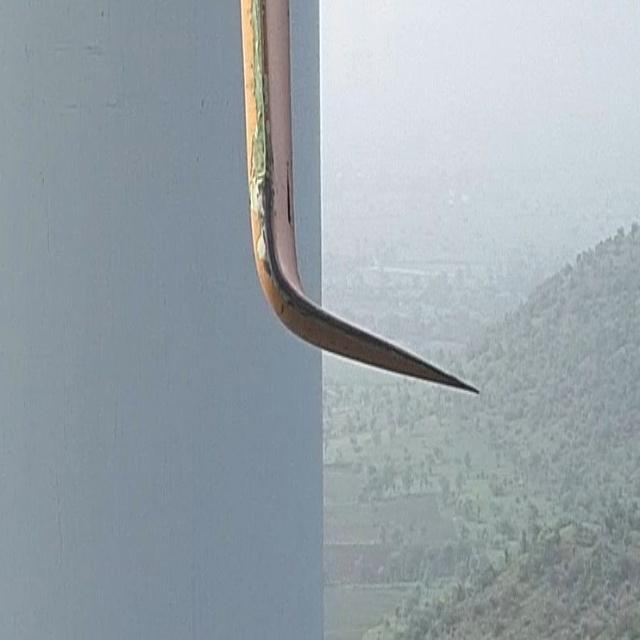EROSION: (251, 79, 293, 278)
